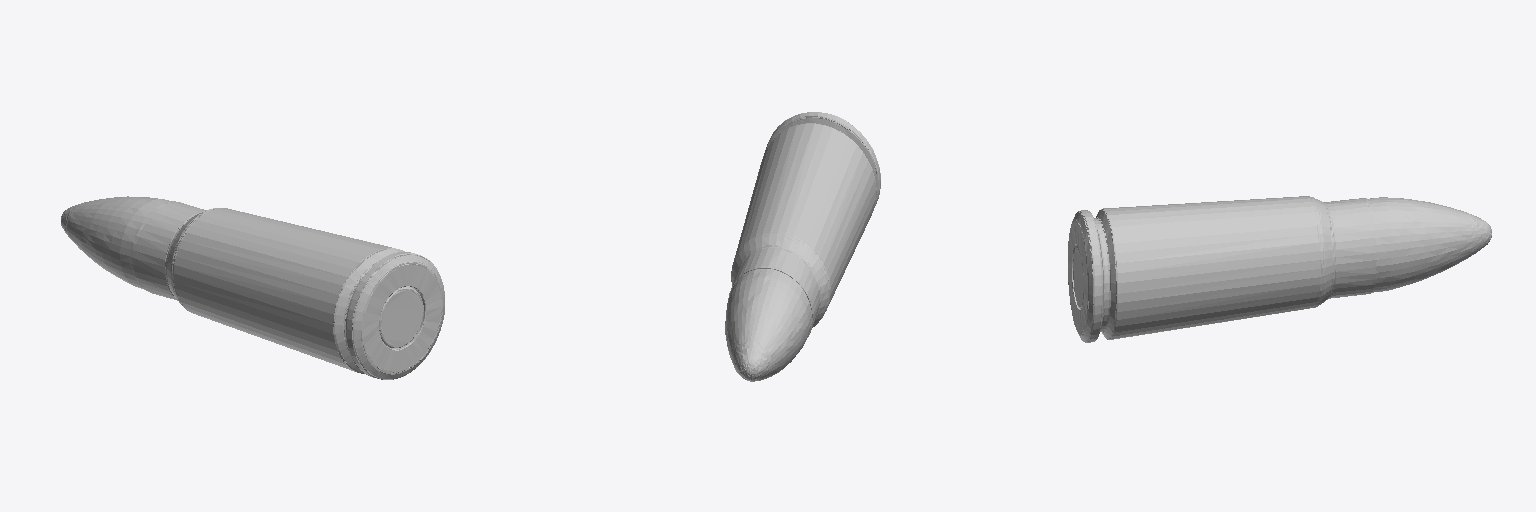
The model's file is bullet.obj.
3 views of the same model, side by side, from view 1: azimuth 30°, elevation 25°; view 2: azimuth 150°, elevation 25°; view 3: azimuth 270°, elevation 25° (orthographic).
Parts seen in each view (by area): view 1: Line062, Line061; view 2: Line062, Line061; view 3: Line062, Line061.
Boxes of the visible parts, box(x1,y1,x2,y2) form: Line062: box(132, 201, 444, 379); Line061: box(61, 196, 171, 289); Line062: box(728, 112, 880, 337); Line061: box(725, 269, 811, 381); Line062: box(1068, 196, 1376, 342); Line061: box(1367, 197, 1491, 292).
Bounding box in the file's own units: 0.2318 × 0.1415 × 0.4432.